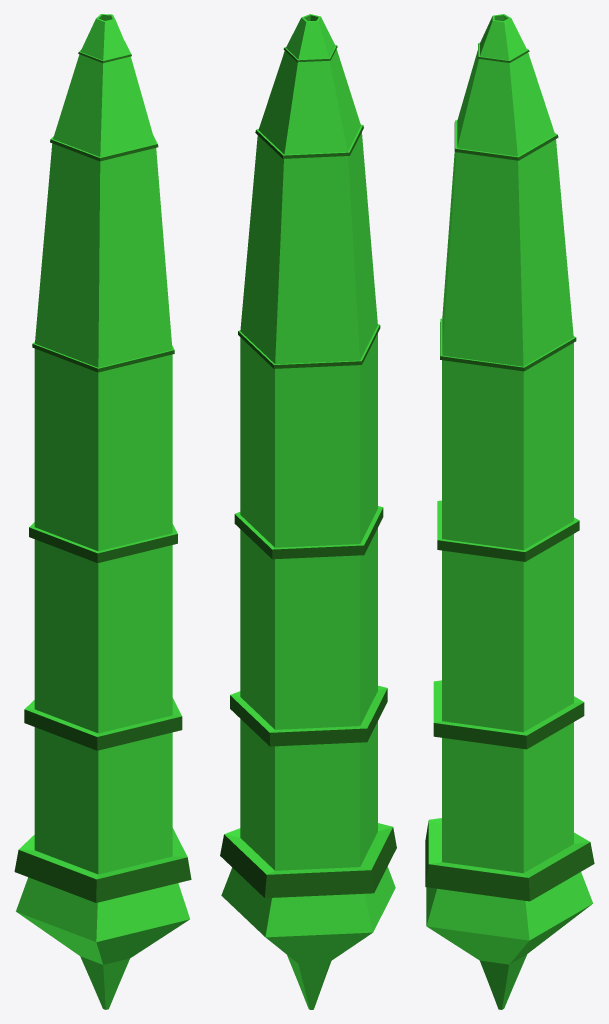
The model's file is BambooRaised.fbx.
The picture shows the model from 3 angles, left to right: view 1: azimuth 30°, elevation 25°; view 2: azimuth 150°, elevation 25°; view 3: azimuth 270°, elevation 25°; orthographic projection.
Parts seen in each view (by area): view 1: BambooRaised; view 2: BambooRaised; view 3: BambooRaised.
Boxes of the visible parts, x1,y1,x2,y2 form: BambooRaised: (14,14,191,1009); BambooRaised: (220,14,396,1009); BambooRaised: (425,14,594,1009).
Size of the model in its own units: 24.41 by 150 by 23.22.
